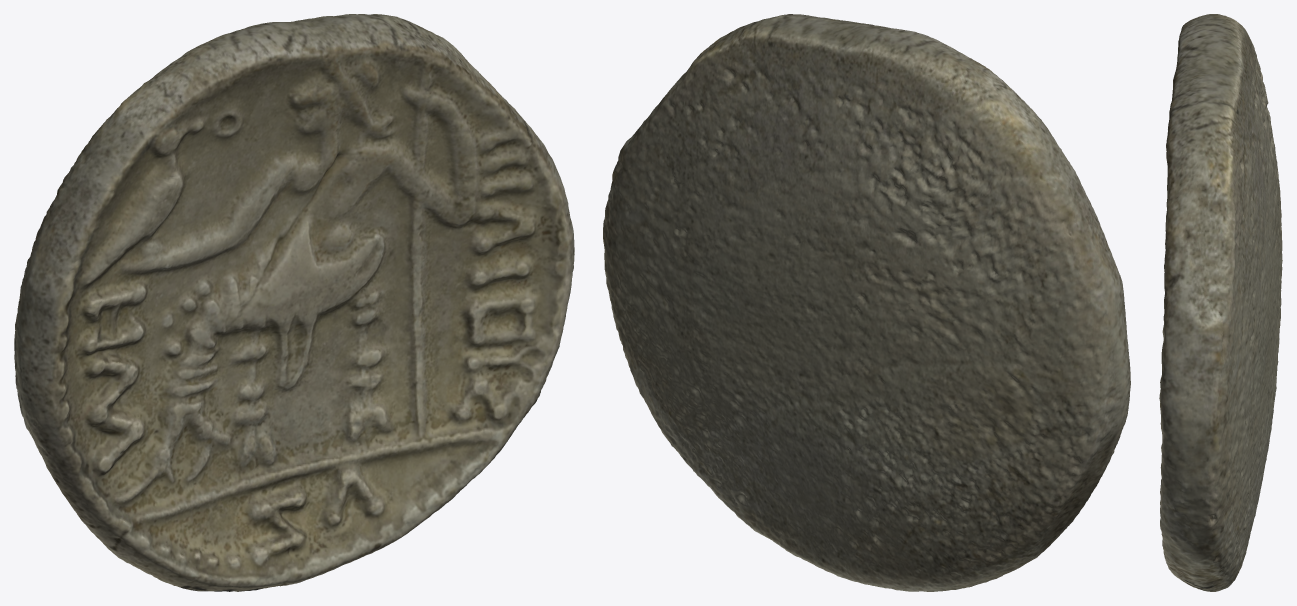
File: pre-islamic_silver_coin_saa022n.glb
3 renders of one model, left to right at view 1: azimuth 30°, elevation 25°; view 2: azimuth 150°, elevation 25°; view 3: azimuth 270°, elevation 25°, orthographic. The views are drawn at different scales.
Parts seen in each view (by area): view 1: Object_2, Object_3; view 2: Object_2, Object_3; view 3: Object_2, Object_3.
Boxes of the visible parts, x1,y1,x2,y2 form: Object_2: (14, 14, 574, 591); Object_3: (15, 14, 572, 590); Object_2: (603, 14, 1130, 591); Object_3: (603, 14, 1124, 590); Object_2: (1159, 14, 1281, 591); Object_3: (1160, 14, 1282, 590).
Size of the model in its own units: 0.0253 by 0.0252 by 0.00542.
1 material, 1 textured.
